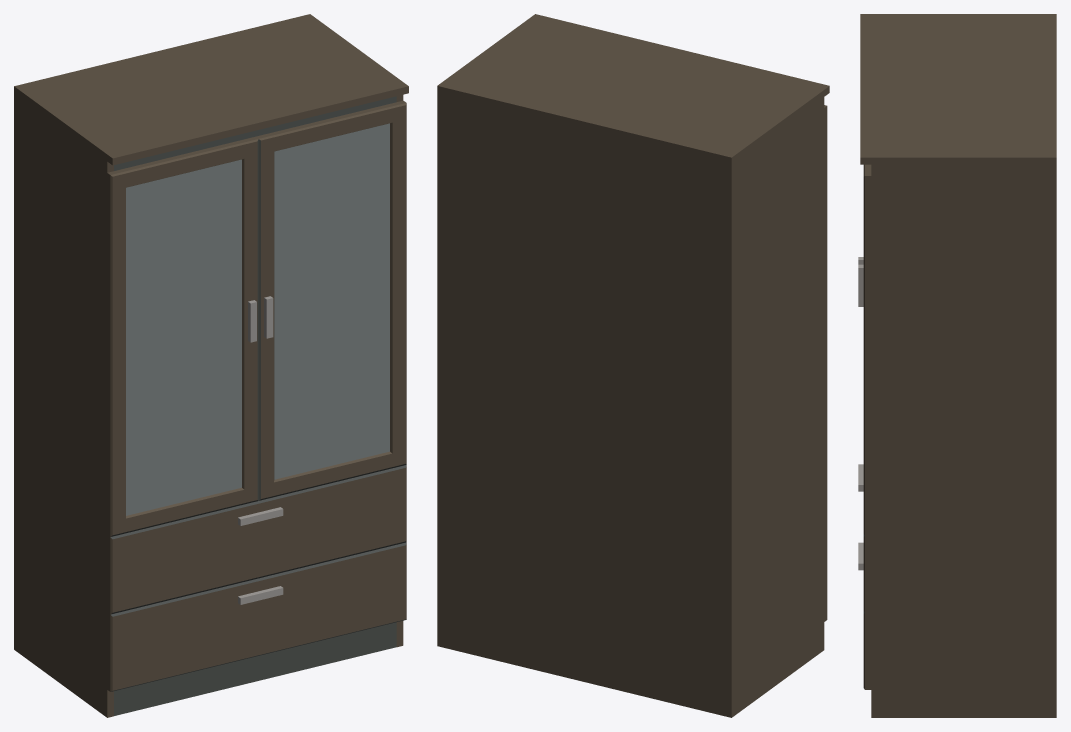
Rendered from SM_Props_Interior_House_Room_Wardbrobe_02.fbx.
The picture shows the model from 3 angles, left to right: view 1: azimuth 30°, elevation 25°; view 2: azimuth 150°, elevation 25°; view 3: azimuth 270°, elevation 25°; orthographic projection.
Parts seen in each view (by area): view 1: SM_Props_Interior_House_Room_Wardbrobe_02; view 2: SM_Props_Interior_House_Room_Wardbrobe_02; view 3: SM_Props_Interior_House_Room_Wardbrobe_02.
Boxes of the visible parts, bbox=[...] form: SM_Props_Interior_House_Room_Wardbrobe_02: bbox=[14, 14, 408, 717]; SM_Props_Interior_House_Room_Wardbrobe_02: bbox=[437, 14, 829, 717]; SM_Props_Interior_House_Room_Wardbrobe_02: bbox=[858, 14, 1056, 717].
Bounding box in the file's own units: 110 × 200 × 64.2.
